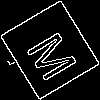M: (25, 25, 87, 84)
